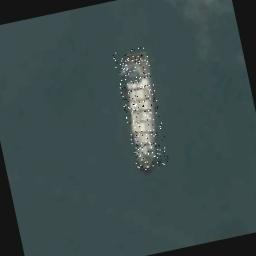boat: (112, 46, 170, 172)
